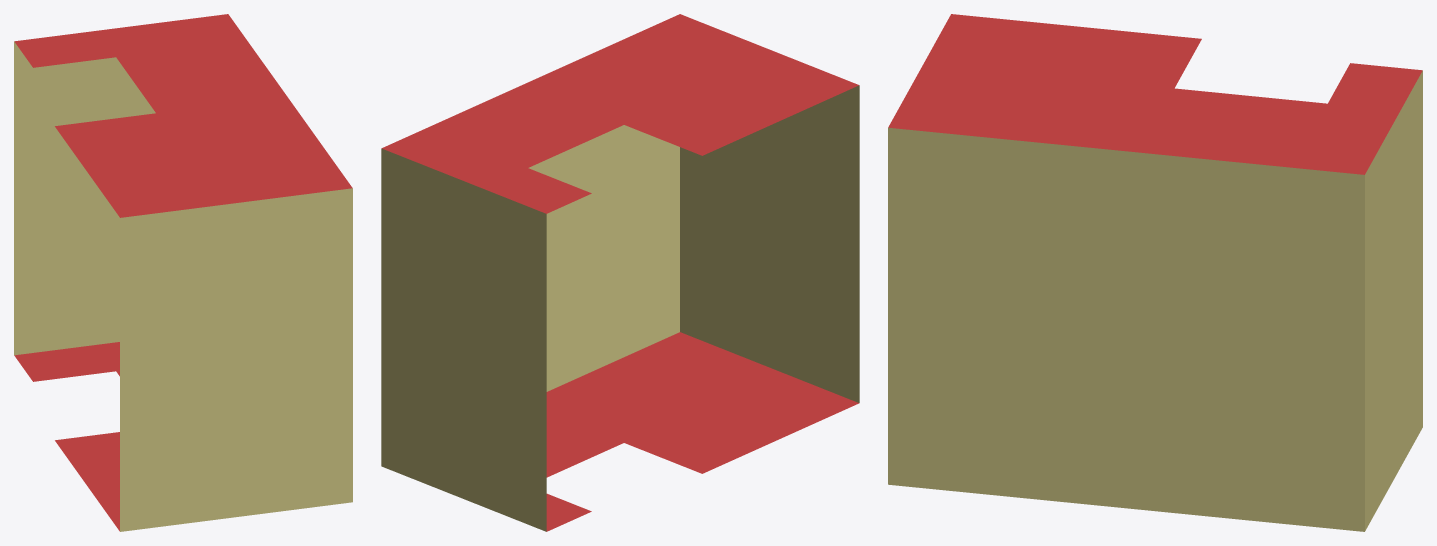
The picture shows the model from 3 angles, left to right: view 1: azimuth 30°, elevation 25°; view 2: azimuth 150°, elevation 25°; view 3: azimuth 270°, elevation 25°; orthographic projection. The views are drawn at different scales.
Bounding box in the file's own units: 8.22 × 11.54 × 8.5.
